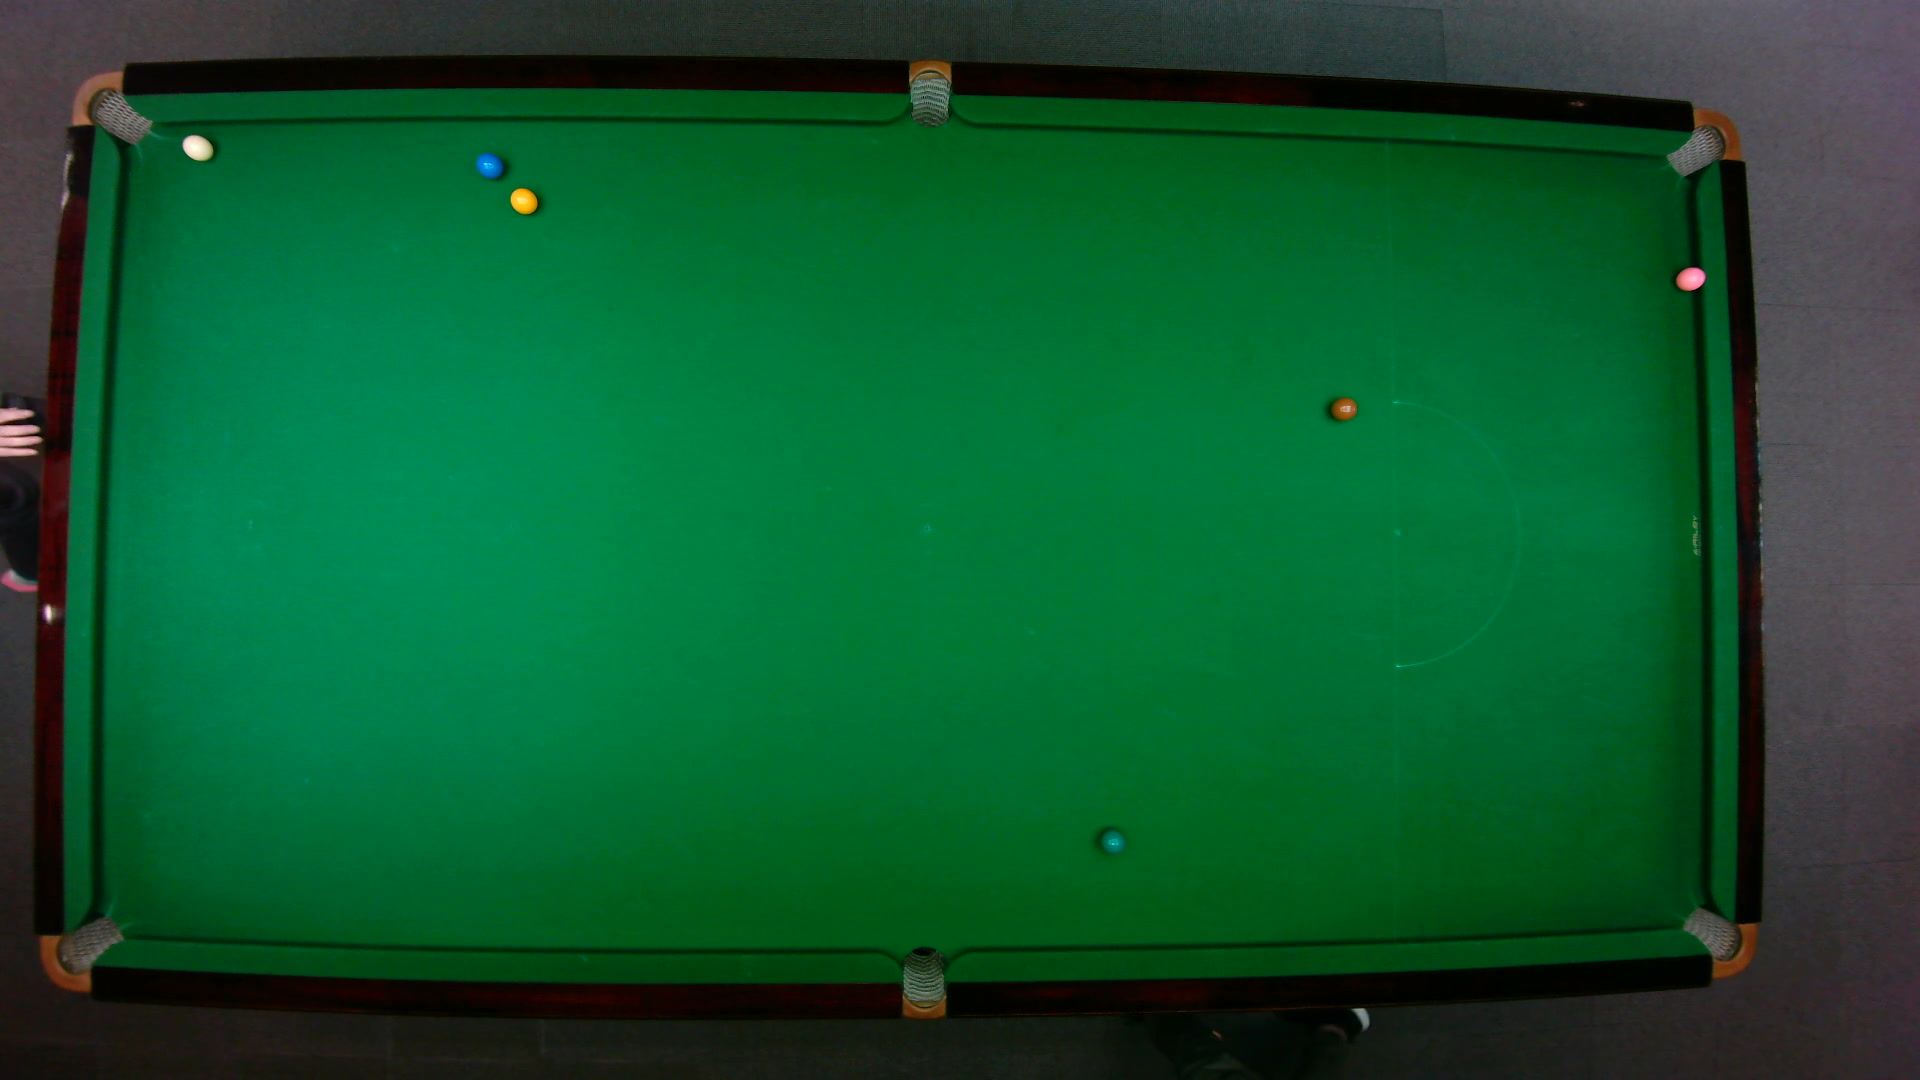bag: (37, 913, 125, 993), (69, 69, 152, 145), (1679, 905, 1758, 978), (1663, 107, 1741, 177), (901, 944, 945, 1021), (909, 57, 949, 128)
blue: (473, 152, 502, 179)
brown: (1328, 396, 1358, 421)
green: (1097, 825, 1126, 855)
pink: (1673, 264, 1706, 291)
white: (179, 132, 215, 162)
yellow: (506, 185, 538, 215)
zone: (1390, 398, 1520, 667)
